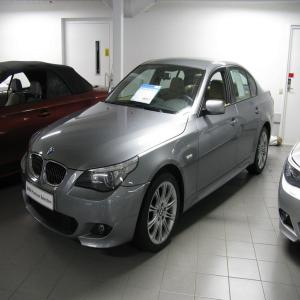Vehicle-registration-plate: (27, 182, 54, 212)
